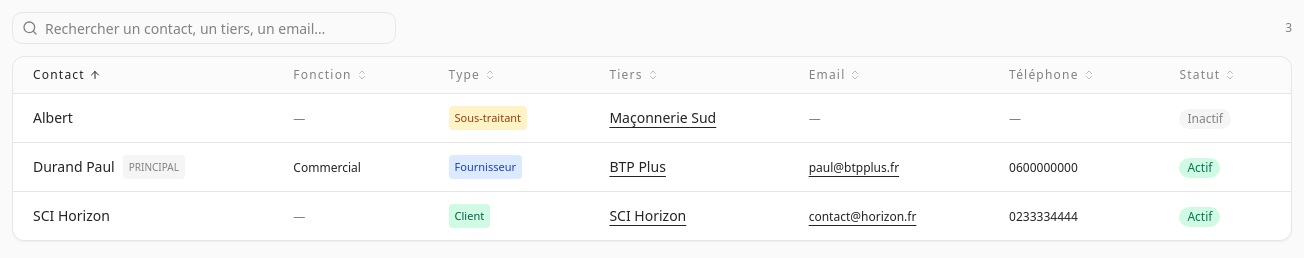
Test: ContactsTable › recherche filtre par type de tiers
Type "sous-traitant" into the search field labelled "Rechercher".
click(204, 28); type("sous-traitant")  # box x1=12 y1=12 x2=396 y2=44
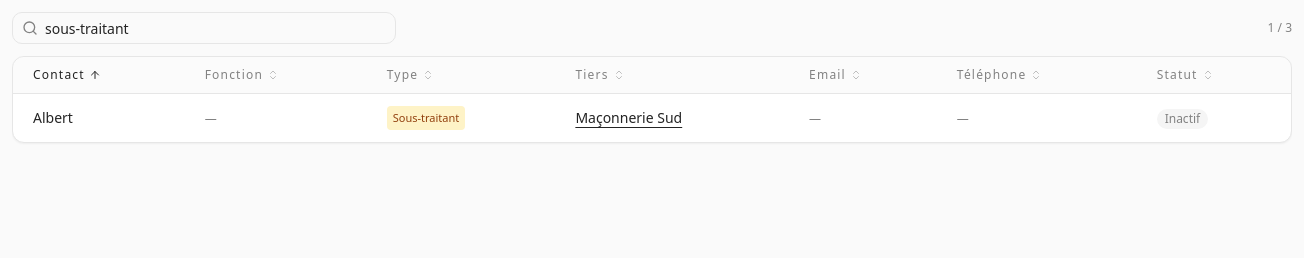
Expected: the text "Albert" is shown, x1=33 y1=108 x2=73 y2=127
Now the text "Durand Paul" is gone
